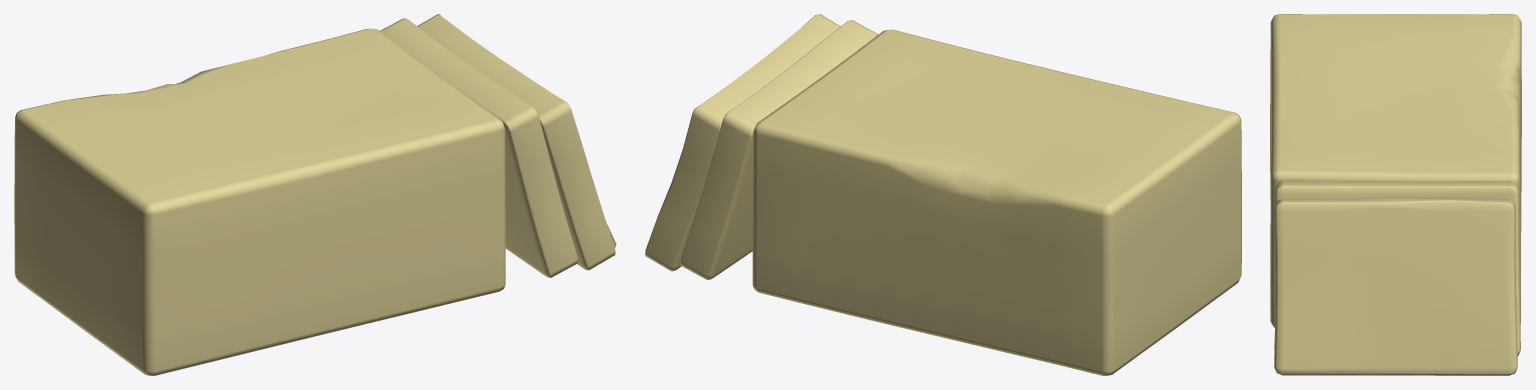
File: butter.fbx
3 renders of one model, left to right at view 1: azimuth 30°, elevation 25°; view 2: azimuth 150°, elevation 25°; view 3: azimuth 270°, elevation 25°, orthographic. The views are drawn at different scales.
Parts seen in each view (by area): view 1: pack_of_butter_01_geom, pack_of_butter_02_geom, pack_of_butter_03_geom; view 2: pack_of_butter_01_geom, pack_of_butter_02_geom, pack_of_butter_03_geom; view 3: pack_of_butter_01_geom, pack_of_butter_03_geom, pack_of_butter_02_geom.
Boxes of the visible parts, x1,y1,x2,y2 form: pack_of_butter_01_geom: (14, 28, 505, 375); pack_of_butter_02_geom: (380, 18, 577, 277); pack_of_butter_03_geom: (417, 14, 616, 270); pack_of_butter_01_geom: (752, 29, 1241, 375); pack_of_butter_02_geom: (680, 20, 878, 279); pack_of_butter_03_geom: (645, 14, 840, 271); pack_of_butter_01_geom: (1270, 14, 1521, 327); pack_of_butter_03_geom: (1274, 196, 1517, 375); pack_of_butter_02_geom: (1274, 180, 1520, 355).
Bounding box in the file's own units: 24.89 × 8.83 × 12.36.
